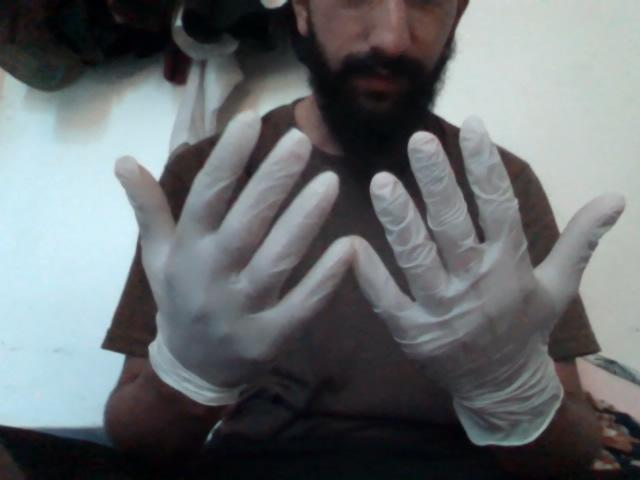gloves: (347, 89, 640, 457), (91, 96, 350, 444)
